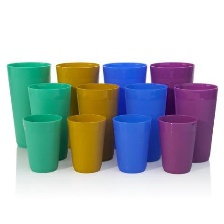glass: (4, 55, 55, 152), (55, 54, 101, 152), (71, 78, 121, 165), (170, 79, 220, 163), (120, 78, 169, 163), (24, 79, 76, 159), (110, 106, 159, 176), (149, 55, 197, 120), (21, 111, 66, 177), (98, 58, 153, 112), (65, 110, 108, 177), (156, 111, 200, 176)
